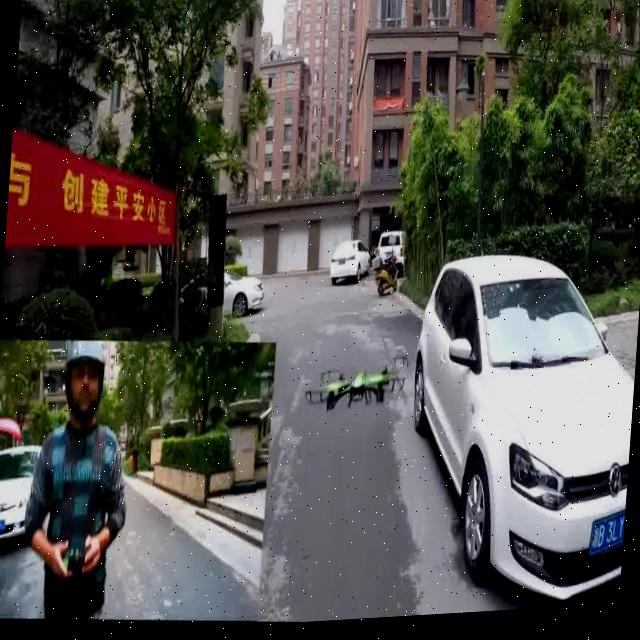drone: (301, 336, 413, 433)
